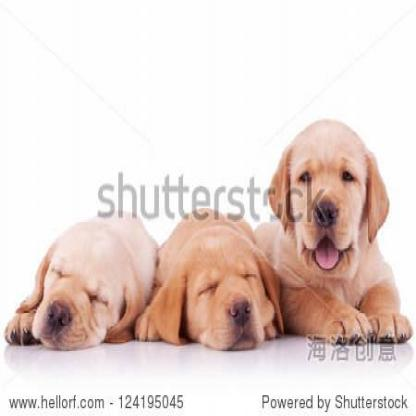dog: (256, 116, 414, 345), (2, 212, 158, 342), (138, 215, 285, 339)
